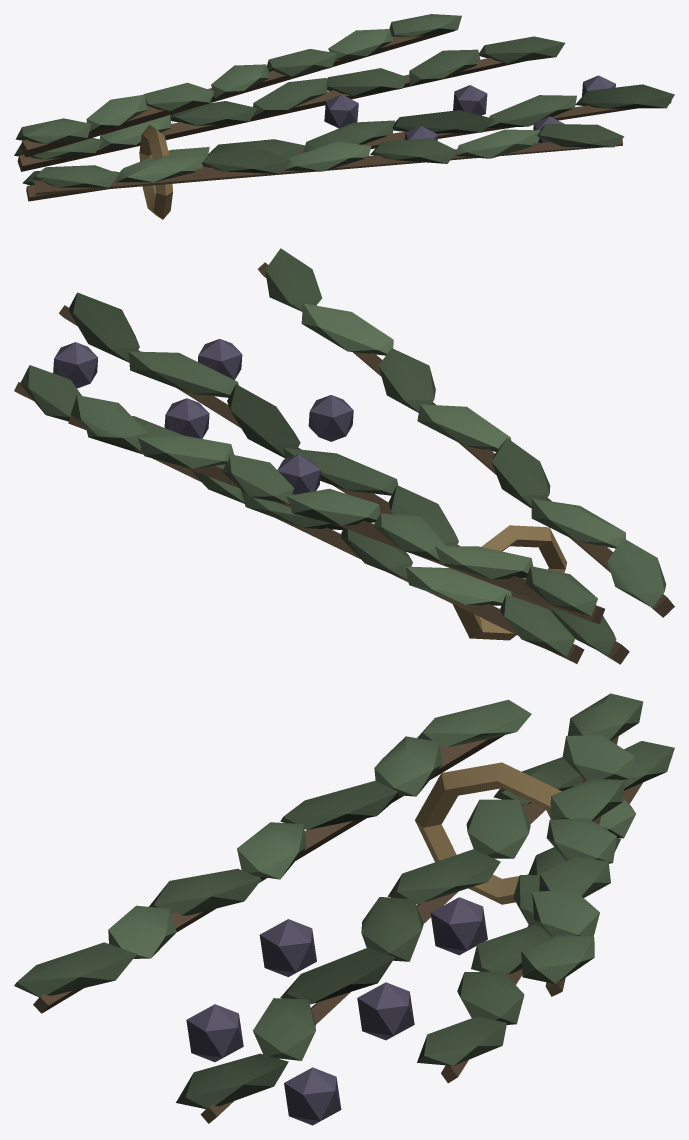
The model's file is ph_item_juniper.glb.
3 views of the same model, one above another, from view 1: azimuth 30°, elevation 25°; view 2: azimuth 150°, elevation 25°; view 3: azimuth 270°, elevation 25° (orthographic). The views are drawn at different scales.
Parts seen in each view (by area): view 1: ph_item_juniper; view 2: ph_item_juniper; view 3: ph_item_juniper.
Part boxes in pixels (x1=…): ph_item_juniper: x1=14, y1=14, x2=674, y2=219; ph_item_juniper: x1=14, y1=248, x2=674, y2=664; ph_item_juniper: x1=14, y1=693, x2=674, y2=1125.
Size of the model in its own units: 0.2915 by 0.0591 by 0.1851.
